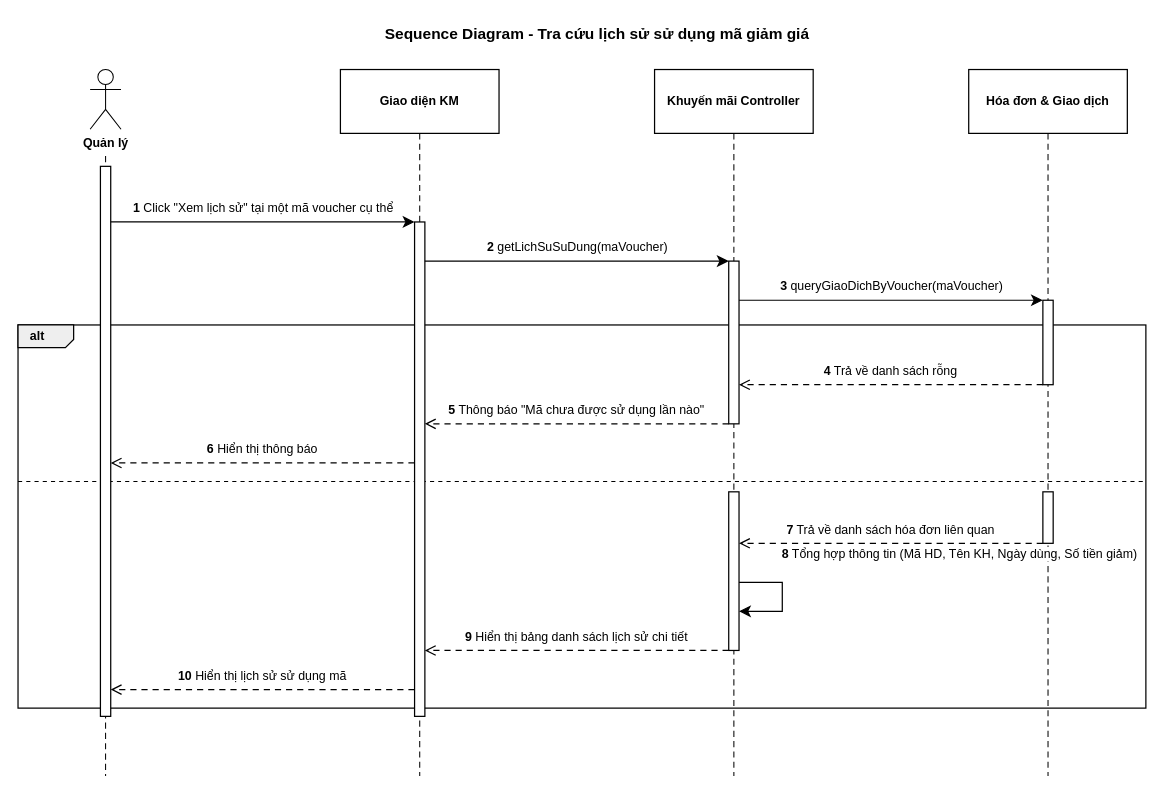
This 1166x795 diagram has some shape labels left out. The shapes that lost their labels are listed below. From the top down, each one's centre as x and y in pixels, then its label:
At (x=160, y=336): "[Chưa có người dùng]".
At (x=89, y=493): "[Có người dùng]".
